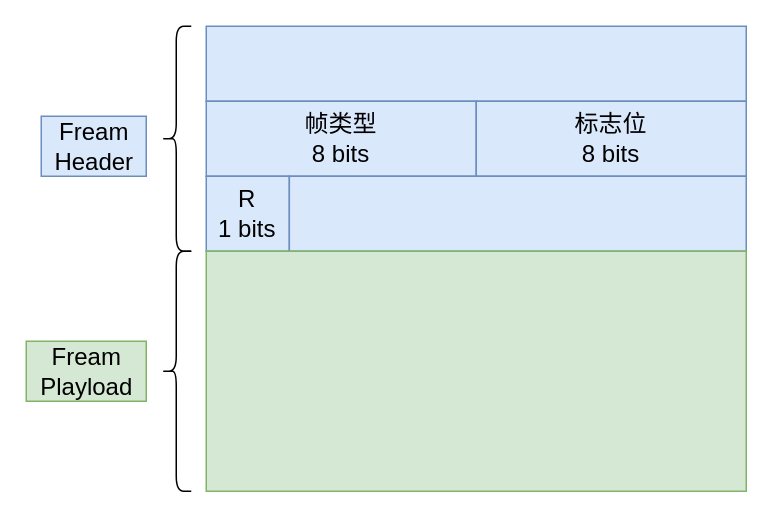
The diagram is 773 pixels wide and 518 high, and some of its shapes have lost their labels. Here are the shapes that lost their labels. From the top down, the centre of each, then its label:
At (475,63): "帧长度 24 bits".
At (517,213): "流标识符 31 bits".
At (475,370): "实际传输的数据".
